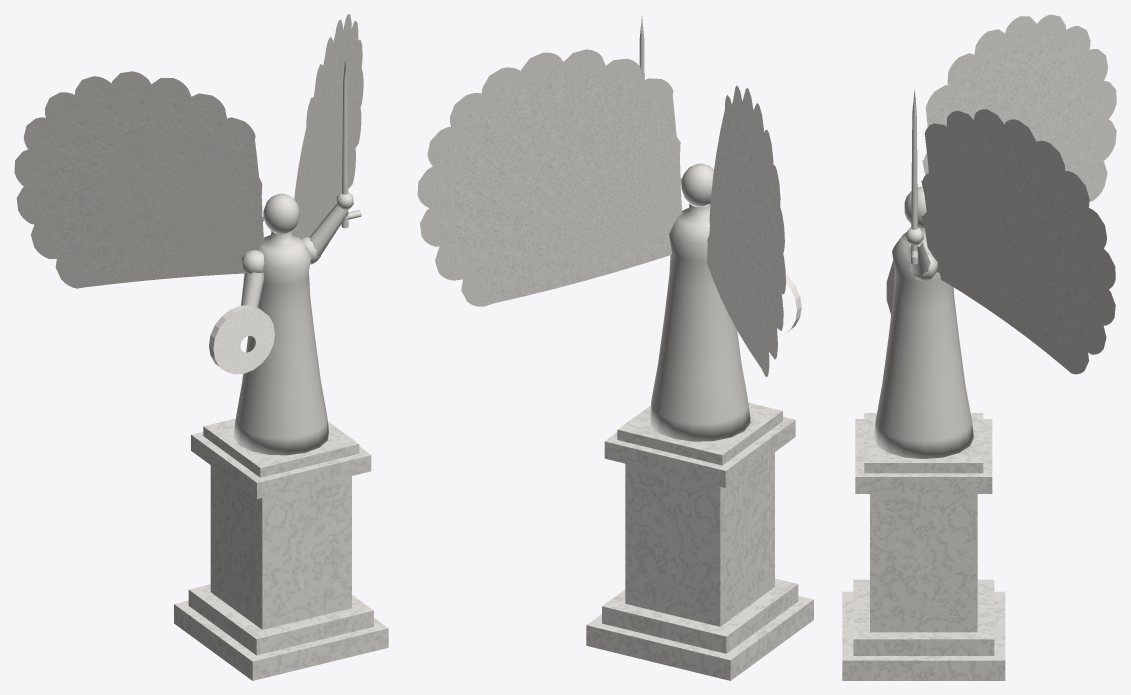
The model's file is SM_statue_angel.glb.
3 views of the same model, side by side, from view 1: azimuth 30°, elevation 25°; view 2: azimuth 150°, elevation 25°; view 3: azimuth 270°, elevation 25° (orthographic). The views are drawn at different scales.
Visible parts, largest first — view 1: SM_statue_angel; view 2: SM_statue_angel; view 3: SM_statue_angel.
Part boxes in pixels (<box>): SM_statue_angel: <box>14,14,388,680</box>; SM_statue_angel: <box>417,16,813,680</box>; SM_statue_angel: <box>842,14,1116,680</box>.
Bounding box in the file's own units: 11.3 × 17.5 × 7.4.
1 material, 1 textured.
